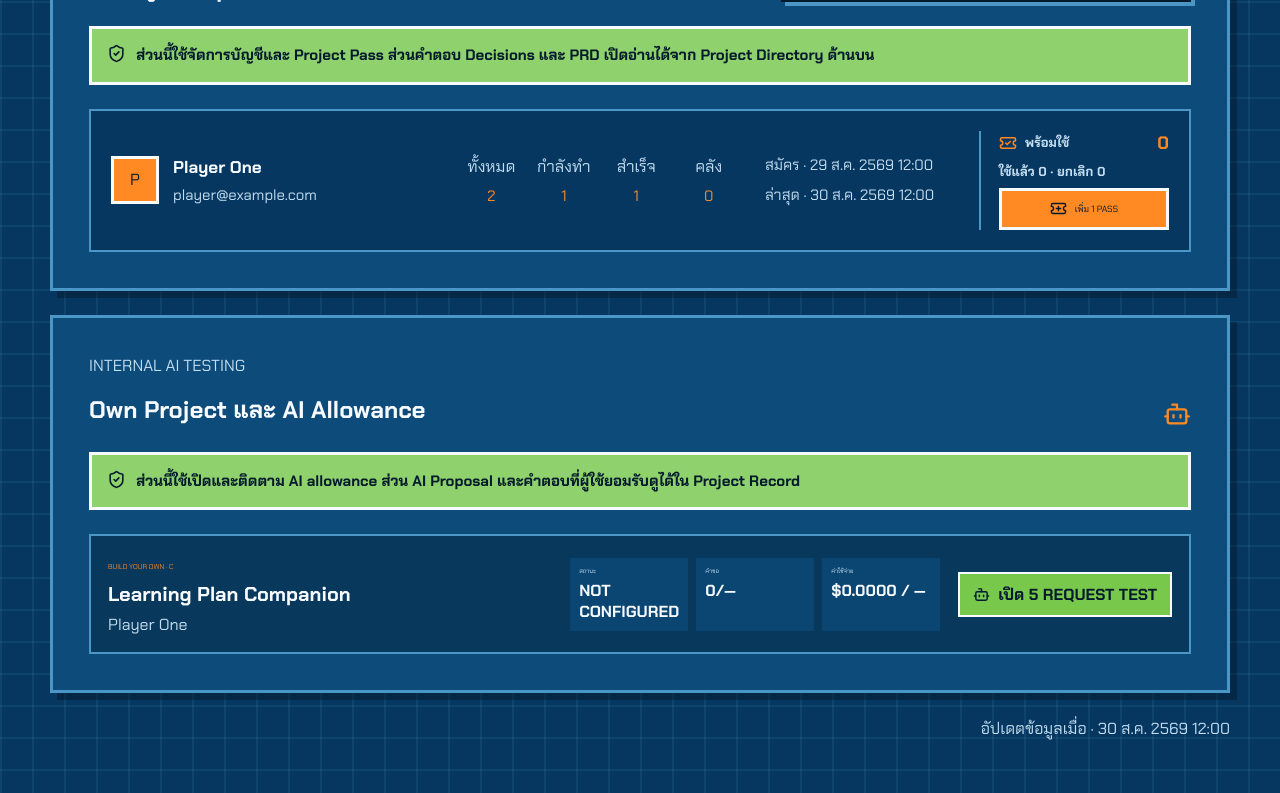
Test: AdminPage › lets an admin enable the bounded AI test allowance for an Own Project
The width and height of the screenshot is (1280, 793).
(page scrolled)
Step 1. Click the button "เปิด 5 REQUEST TEST" → [1065, 594], box 958,572 -> 1172,616
(page scrolled)
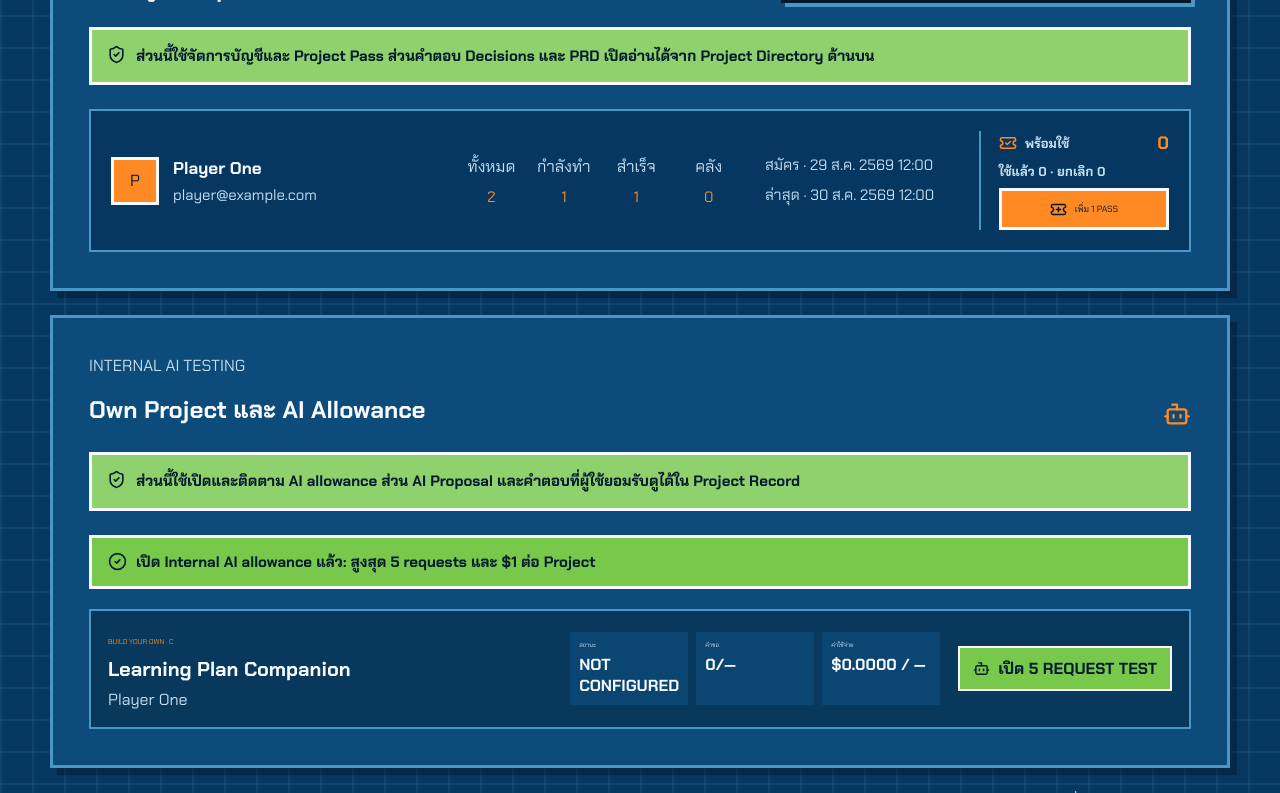
Now the text "เปิด Internal AI allowance แล้ว: สูงสุด 5 requests และ $1 ต่อ Project" is shown, box 89,534 -> 1191,588
